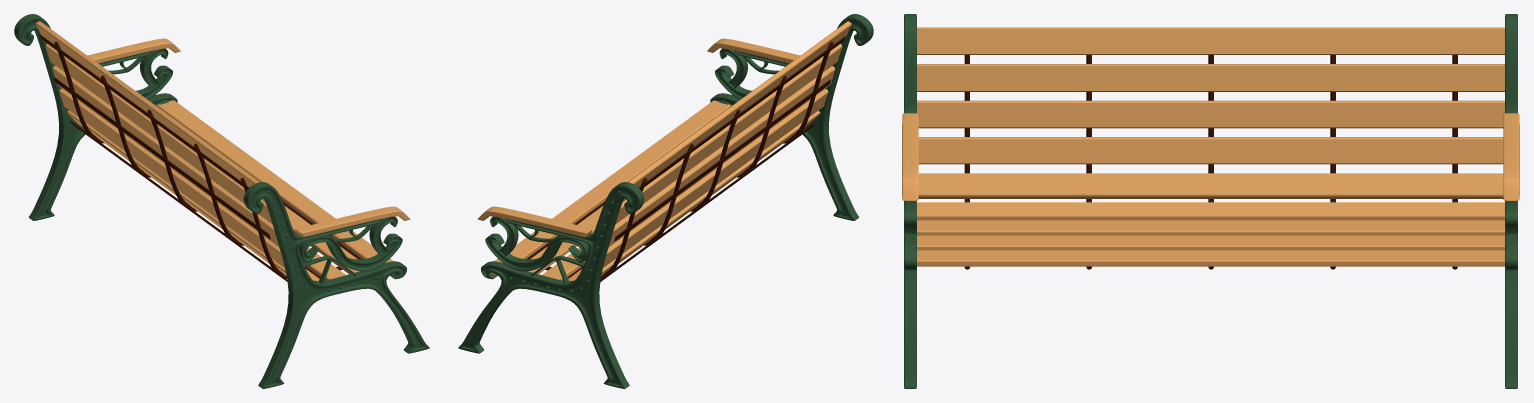
The model's file is bank.fbx.
3 renders of one model, left to right at view 1: azimuth 30°, elevation 25°; view 2: azimuth 150°, elevation 25°; view 3: azimuth 270°, elevation 25°, orthographic. The views are drawn at different scales.
Parts seen in each view (by area): view 1: Plane.010; view 2: Plane.010; view 3: Plane.010.
Part boxes in pixels (x1=…): Plane.010: x1=14, y1=14, x2=429, y2=388; Plane.010: x1=458, y1=14, x2=873, y2=388; Plane.010: x1=902, y1=14, x2=1519, y2=388.
Size of the model in its own units: 322 by 346 by 725.
